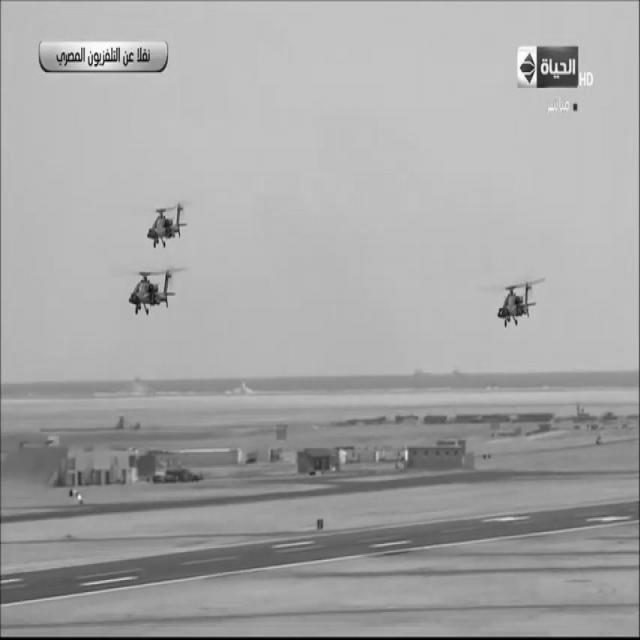helikopter: (480, 258, 546, 346), (134, 188, 192, 258), (122, 261, 184, 320)
